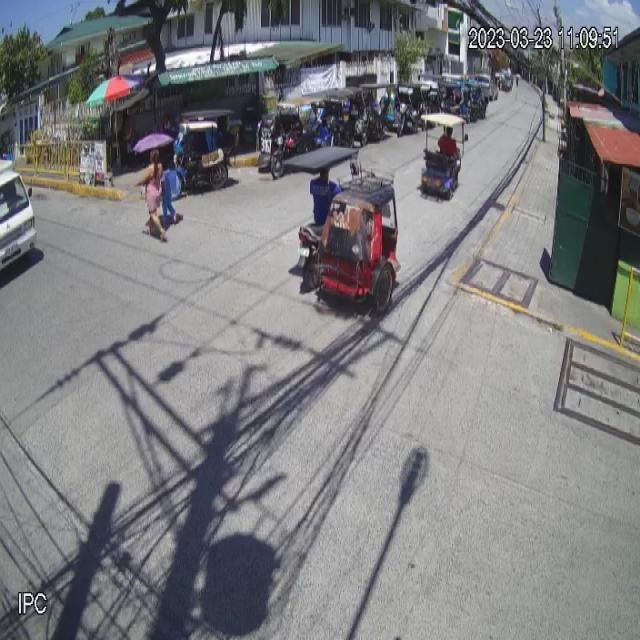Tricycle: (284, 148, 402, 318)
